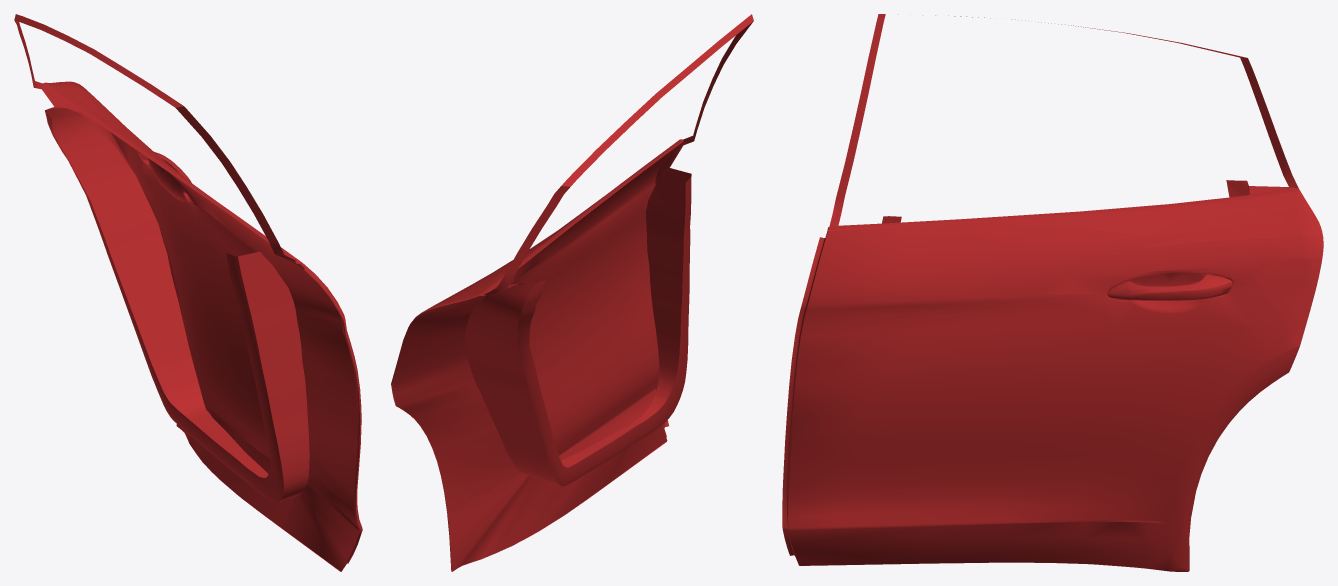
Rendered from Stanga_Spate.fbx.
3 views of the same model, side by side, from view 1: azimuth 30°, elevation 25°; view 2: azimuth 150°, elevation 25°; view 3: azimuth 270°, elevation 25° (orthographic). The views are drawn at different scales.
Parts seen in each view (by area): view 1: door_LB; view 2: door_LB; view 3: door_LB.
Boxes of the visible parts, box(x1,y1,x2,y2) form: door_LB: box(14, 14, 362, 571); door_LB: box(391, 14, 753, 571); door_LB: box(782, 14, 1323, 571).
Bounding box in the file's own units: 668 × 1948 × 1947.
